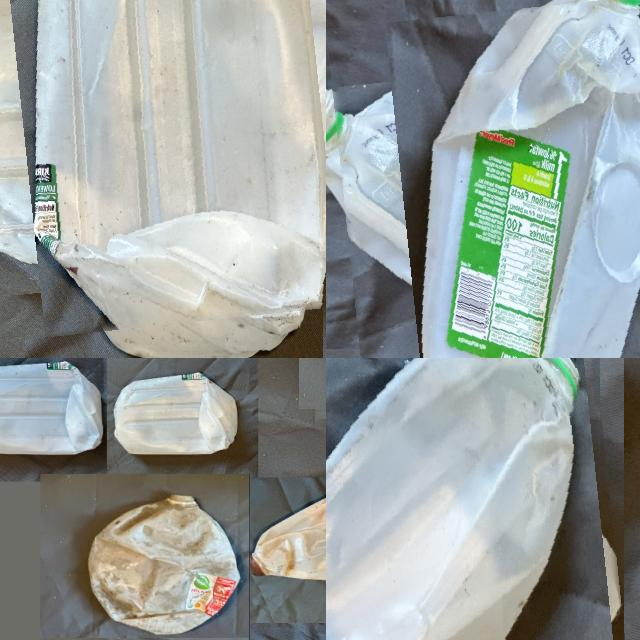milk-jug: (335, 0, 640, 358), (0, 0, 326, 332), (326, 358, 620, 640), (81, 496, 238, 636), (110, 372, 240, 457), (0, 358, 98, 456), (252, 488, 326, 585)
